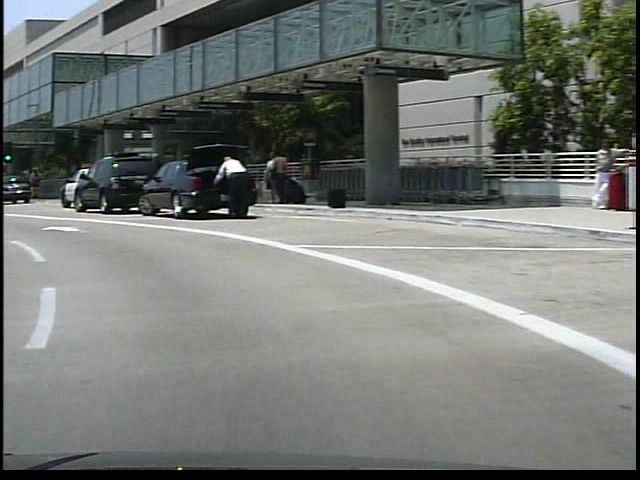person: (207, 156, 250, 226), (266, 152, 286, 209), (257, 152, 275, 209)
